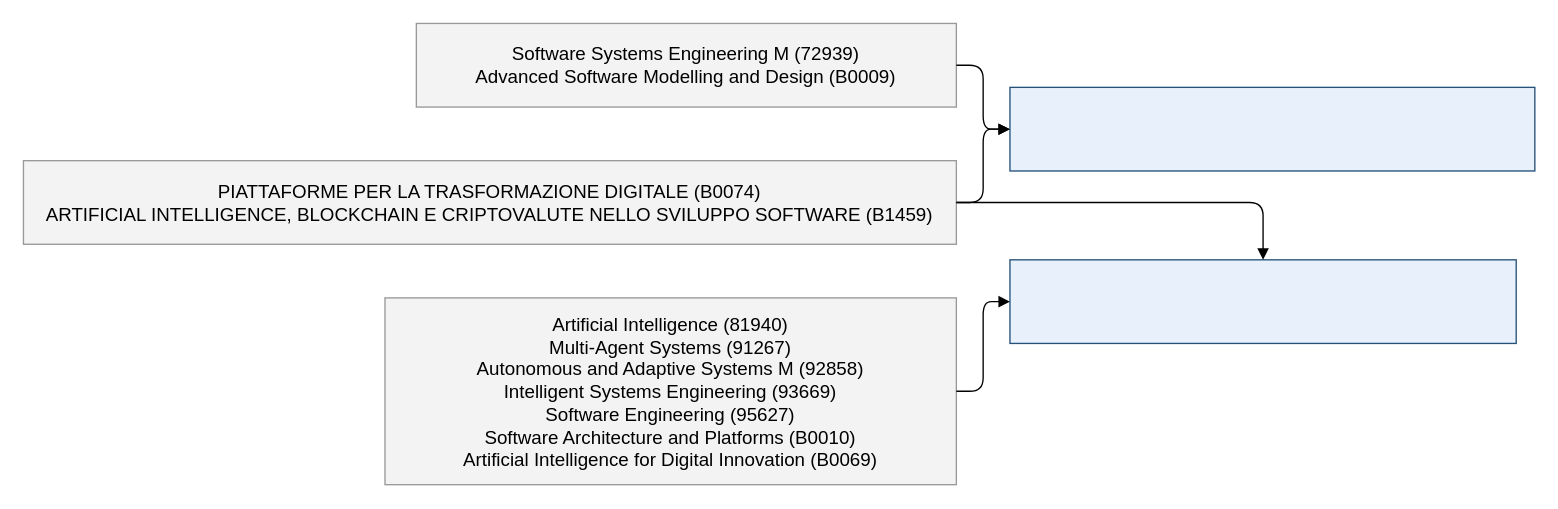
The diagram is 1558 pixels wide and 509 high, and some of its shapes have lost their labels. The shapes that lost their labels are listed below. From the top down, each one's box as (x1, y1, x2, y2) in pixels, then its label:
(1009, 86, 1535, 171): Software Development and Quality Foundations 3 ECTS
(1009, 258, 1516, 343): Software Engineering for Intelligent Systems 3 ECTS
